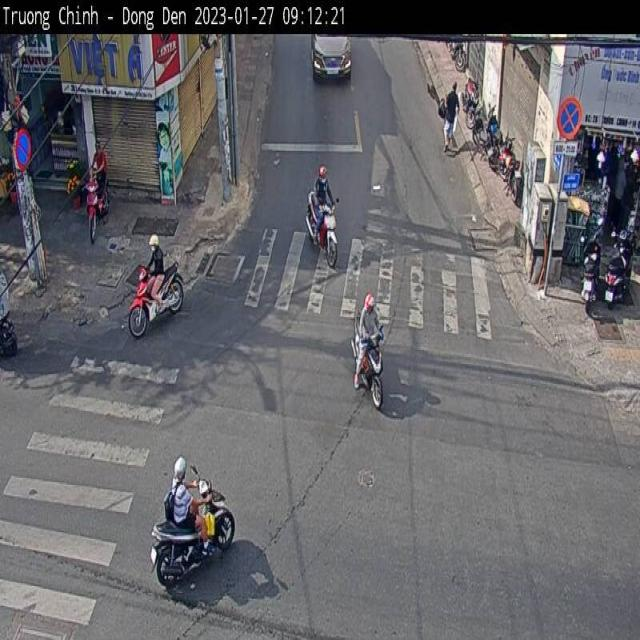helmet: (148, 234, 167, 278), (170, 447, 190, 483), (360, 284, 377, 323), (318, 161, 331, 189)
no_helmet: (92, 136, 107, 163), (448, 77, 463, 97)
